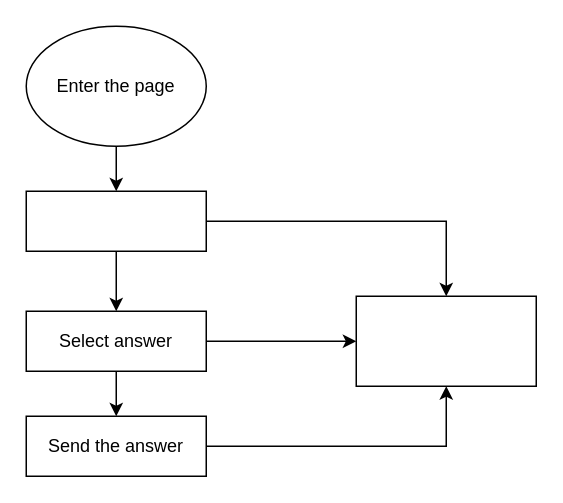
Image size: 563x503. Some labels were removed from this diagram. The shapes that lost their labels are listed below. From the top down, each one's centre as x and y in pixels, then its label:
At (115,220): "Show question".
At (445,340): "Show all answers".
